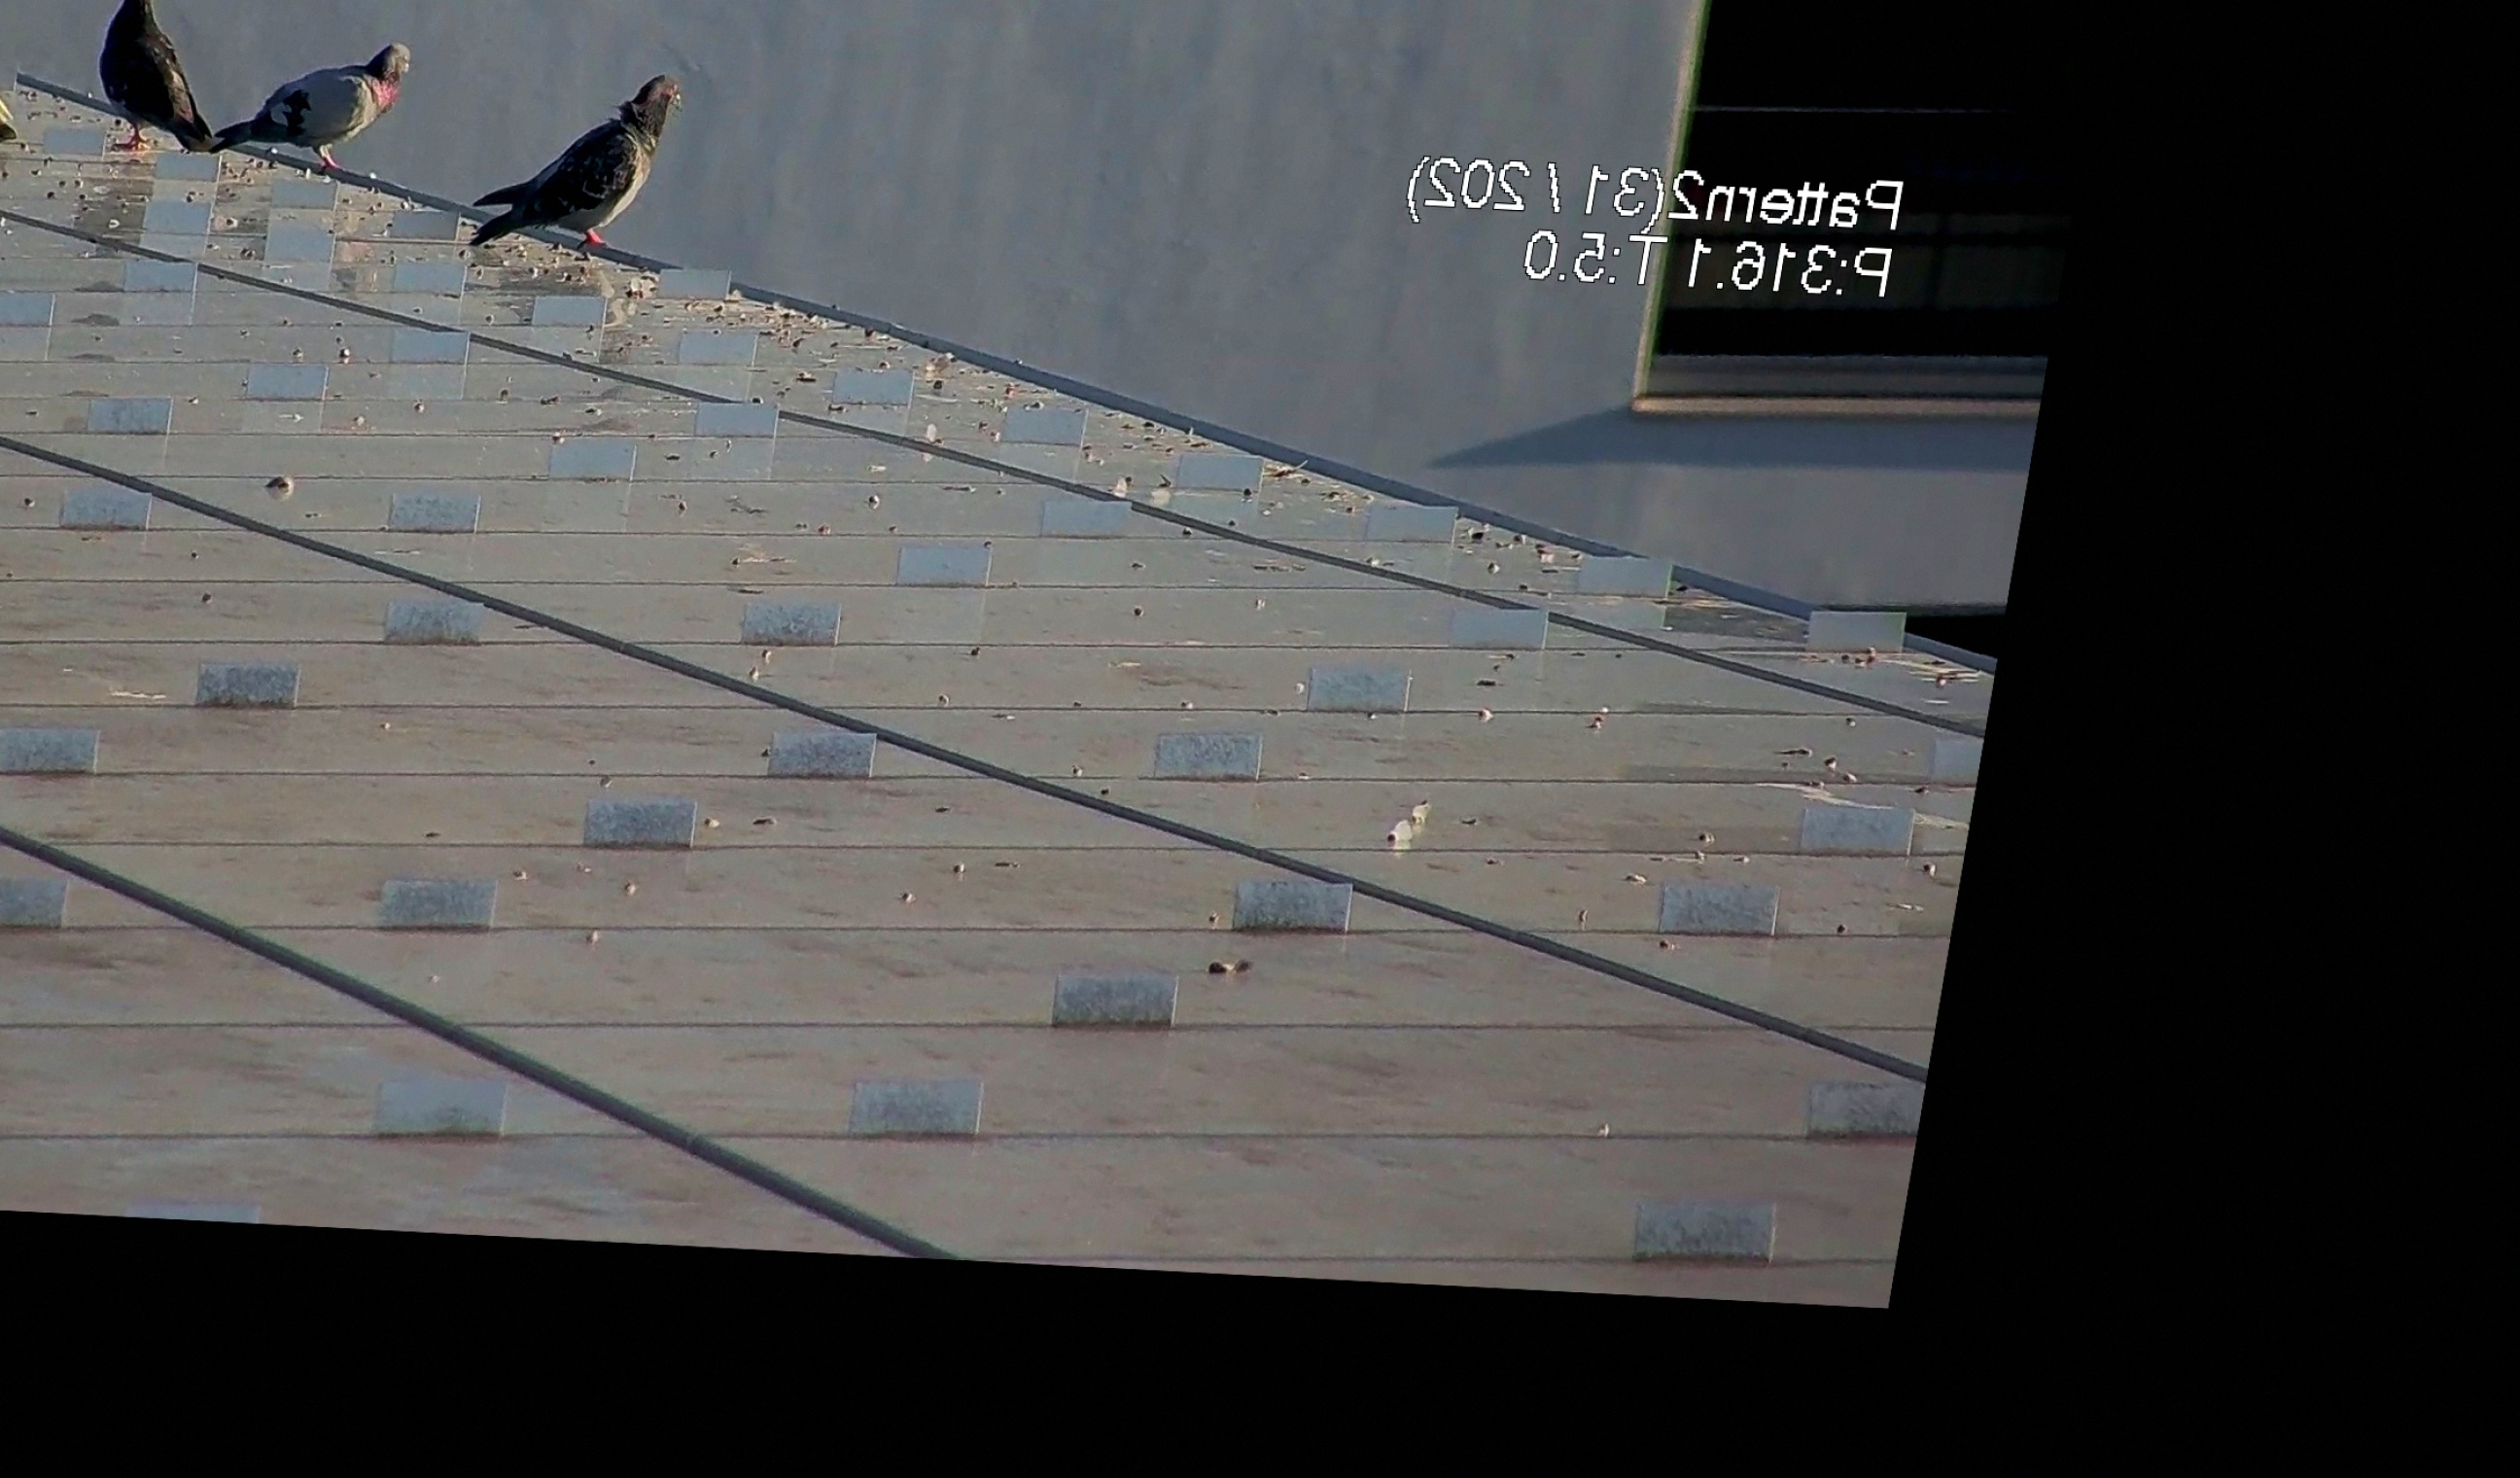Other: (452, 60, 695, 266), (1686, 338, 1906, 519), (186, 14, 420, 174), (1764, 333, 1903, 510), (1964, 394, 2105, 524)
